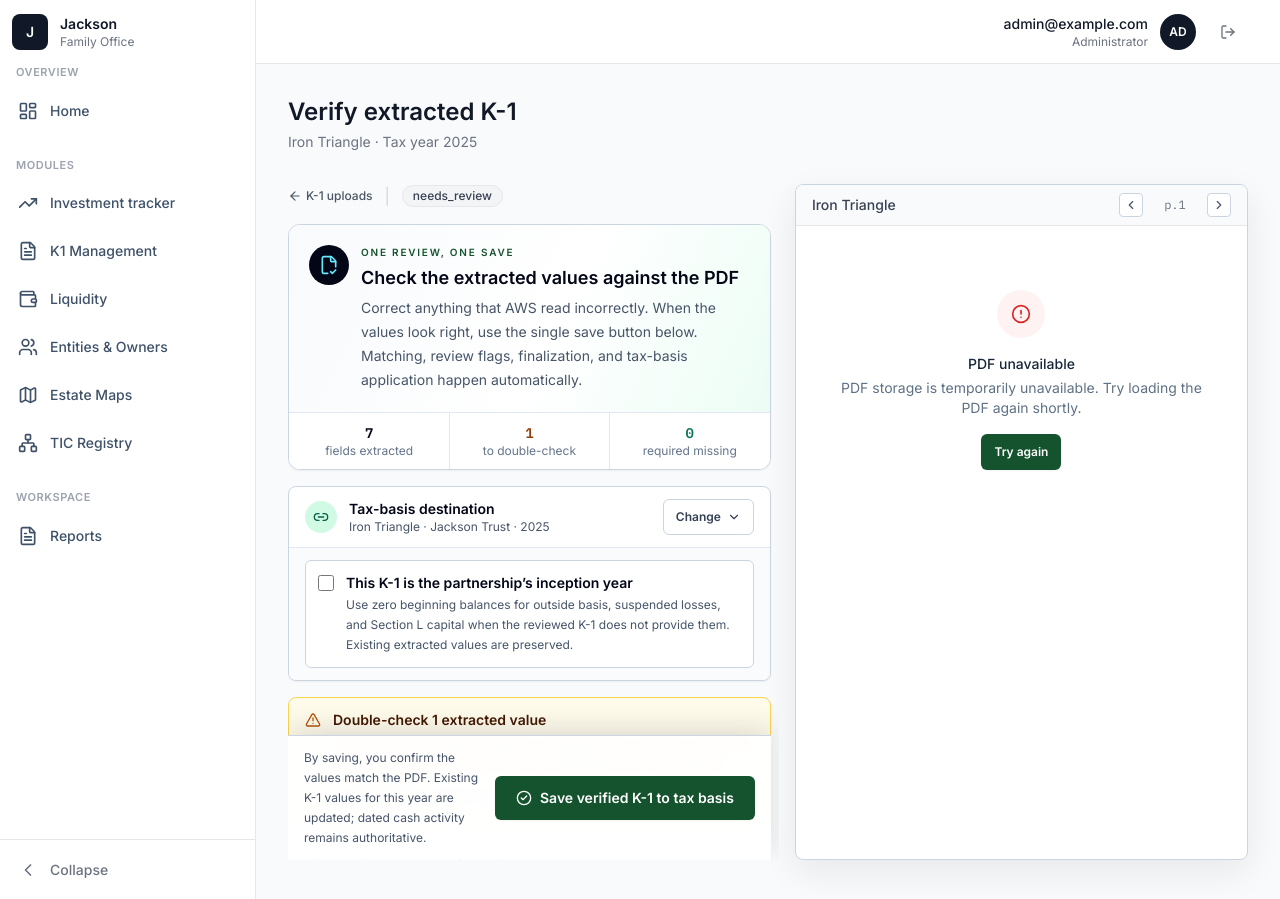
Scenario: K1ReviewWorkspace simplified scan flow › explains a stale tax-basis revision instead of exposing an internal code
Click the button "Save verified K-1 to tax basis": (625, 798) [495,776,755,820]
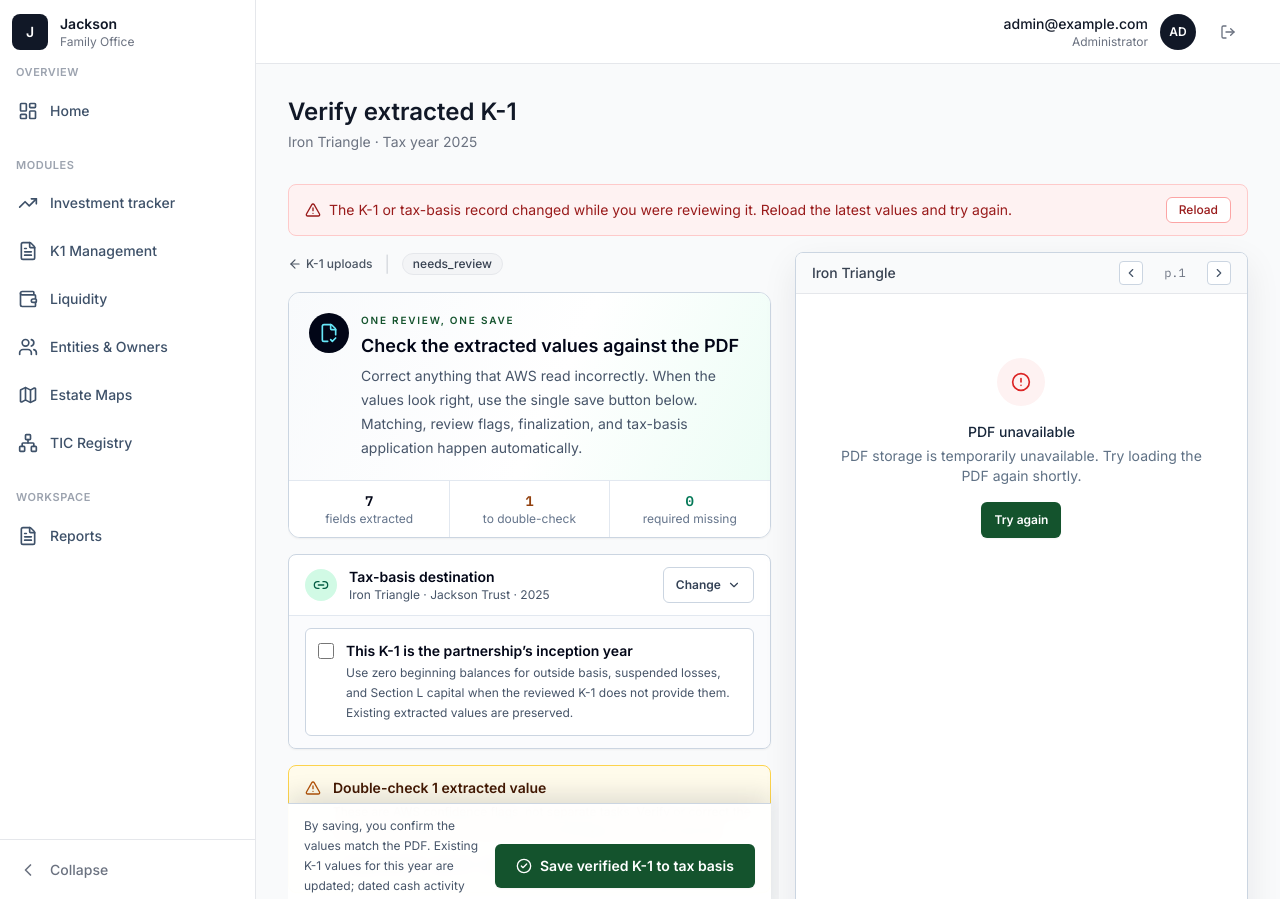
Expected: the element with test id "stale-banner" shows "changed while you were reviewing it", [329,201,1012,218]
